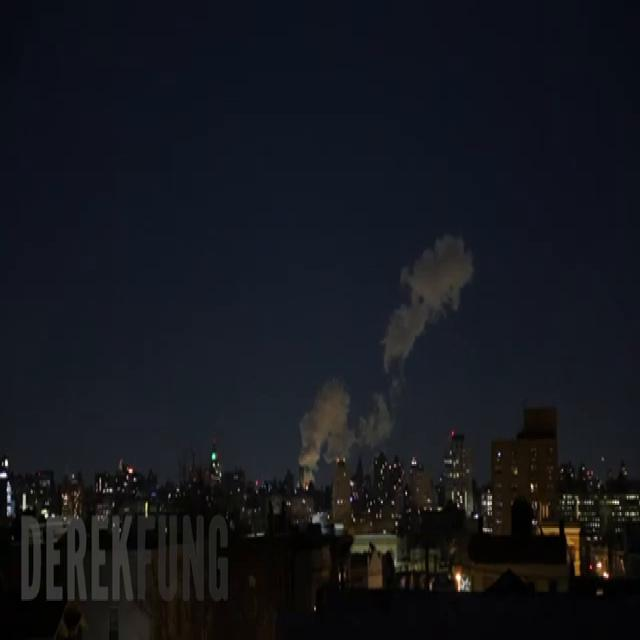smoke: (298, 299, 456, 473)
